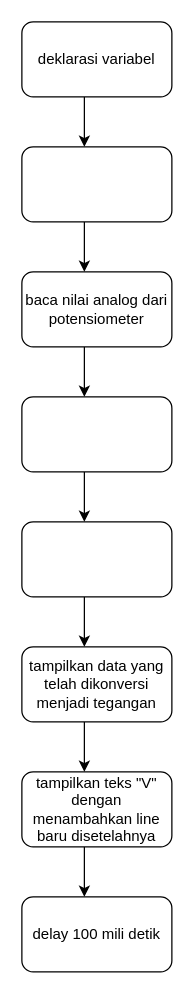
Some shapes in this 194 by 994 pixel diagram are drawn without their labels. The shapes that lost their labels are listed below. From the top down, each one's box as (x1, y1, x2, y2) in pixels, then its label:
(21, 146, 172, 222): inisialisasi komunikasi serial
(21, 396, 172, 472): konversi data resistansi menjadi tegangan
(21, 521, 172, 597): tampilkan teks tegangan di kolom serial monitor
